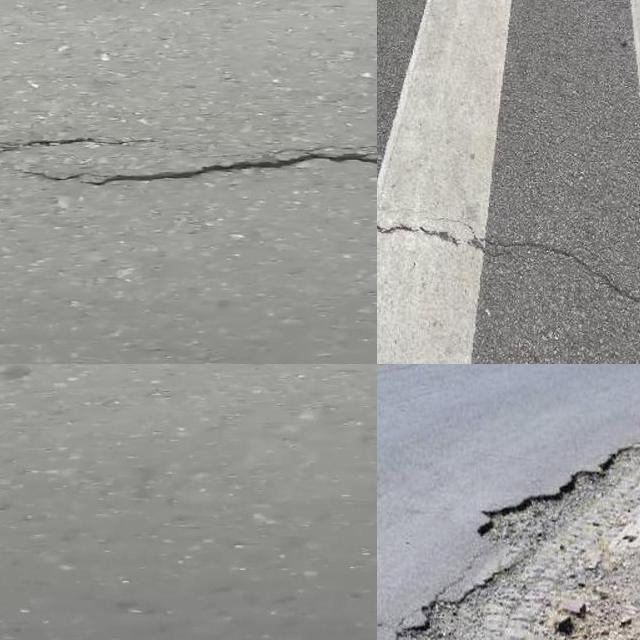Melintang: (377, 212, 640, 323), (21, 139, 377, 197), (0, 123, 149, 166)
Pinggir: (394, 412, 640, 640)
